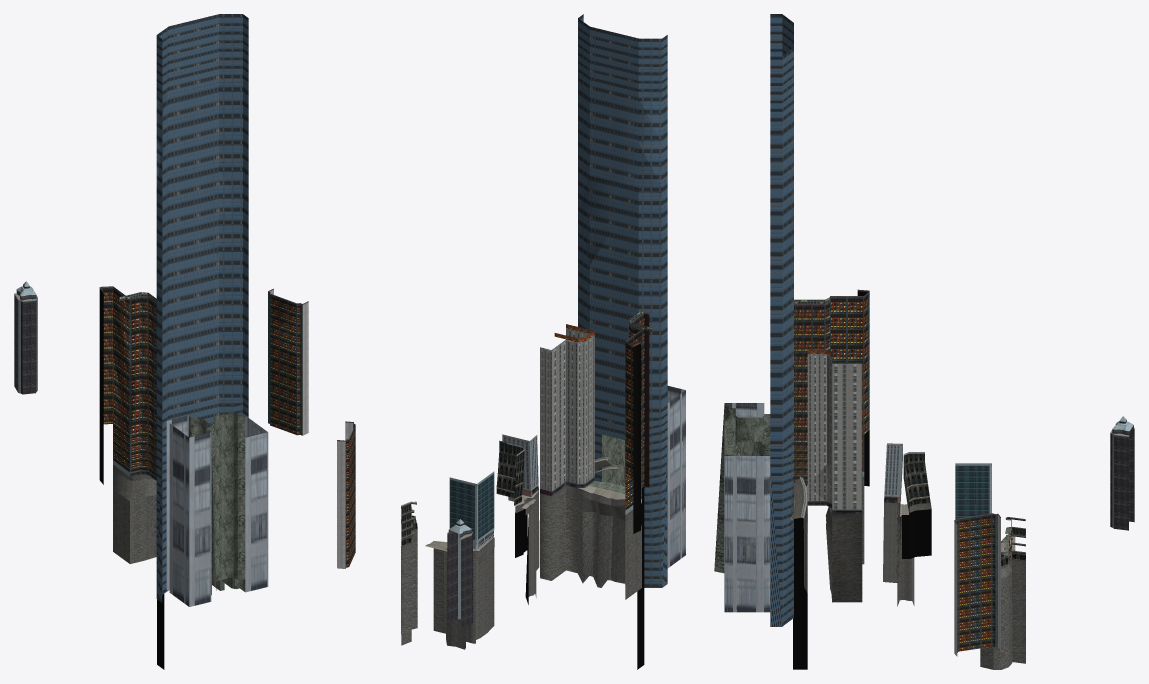
Rendered from STG0100_O_02.fbx.
3 views of the same model, side by side, from view 1: azimuth 30°, elevation 25°; view 2: azimuth 150°, elevation 25°; view 3: azimuth 270°, elevation 25° (orthographic). The views are drawn at different scales.
Parts seen in each view (by area): view 1: STG0100_O_02_default; view 2: STG0100_O_02_default; view 3: STG0100_O_02_default.
Boxes of the visible parts, box(x1,y1,x2,y2) form: STG0100_O_02_default: box(14, 14, 308, 669); STG0100_O_02_default: box(337, 14, 685, 669); STG0100_O_02_default: box(714, 14, 1134, 669).
Bounding box in the file's own units: 2901 × 7003 × 4110.
